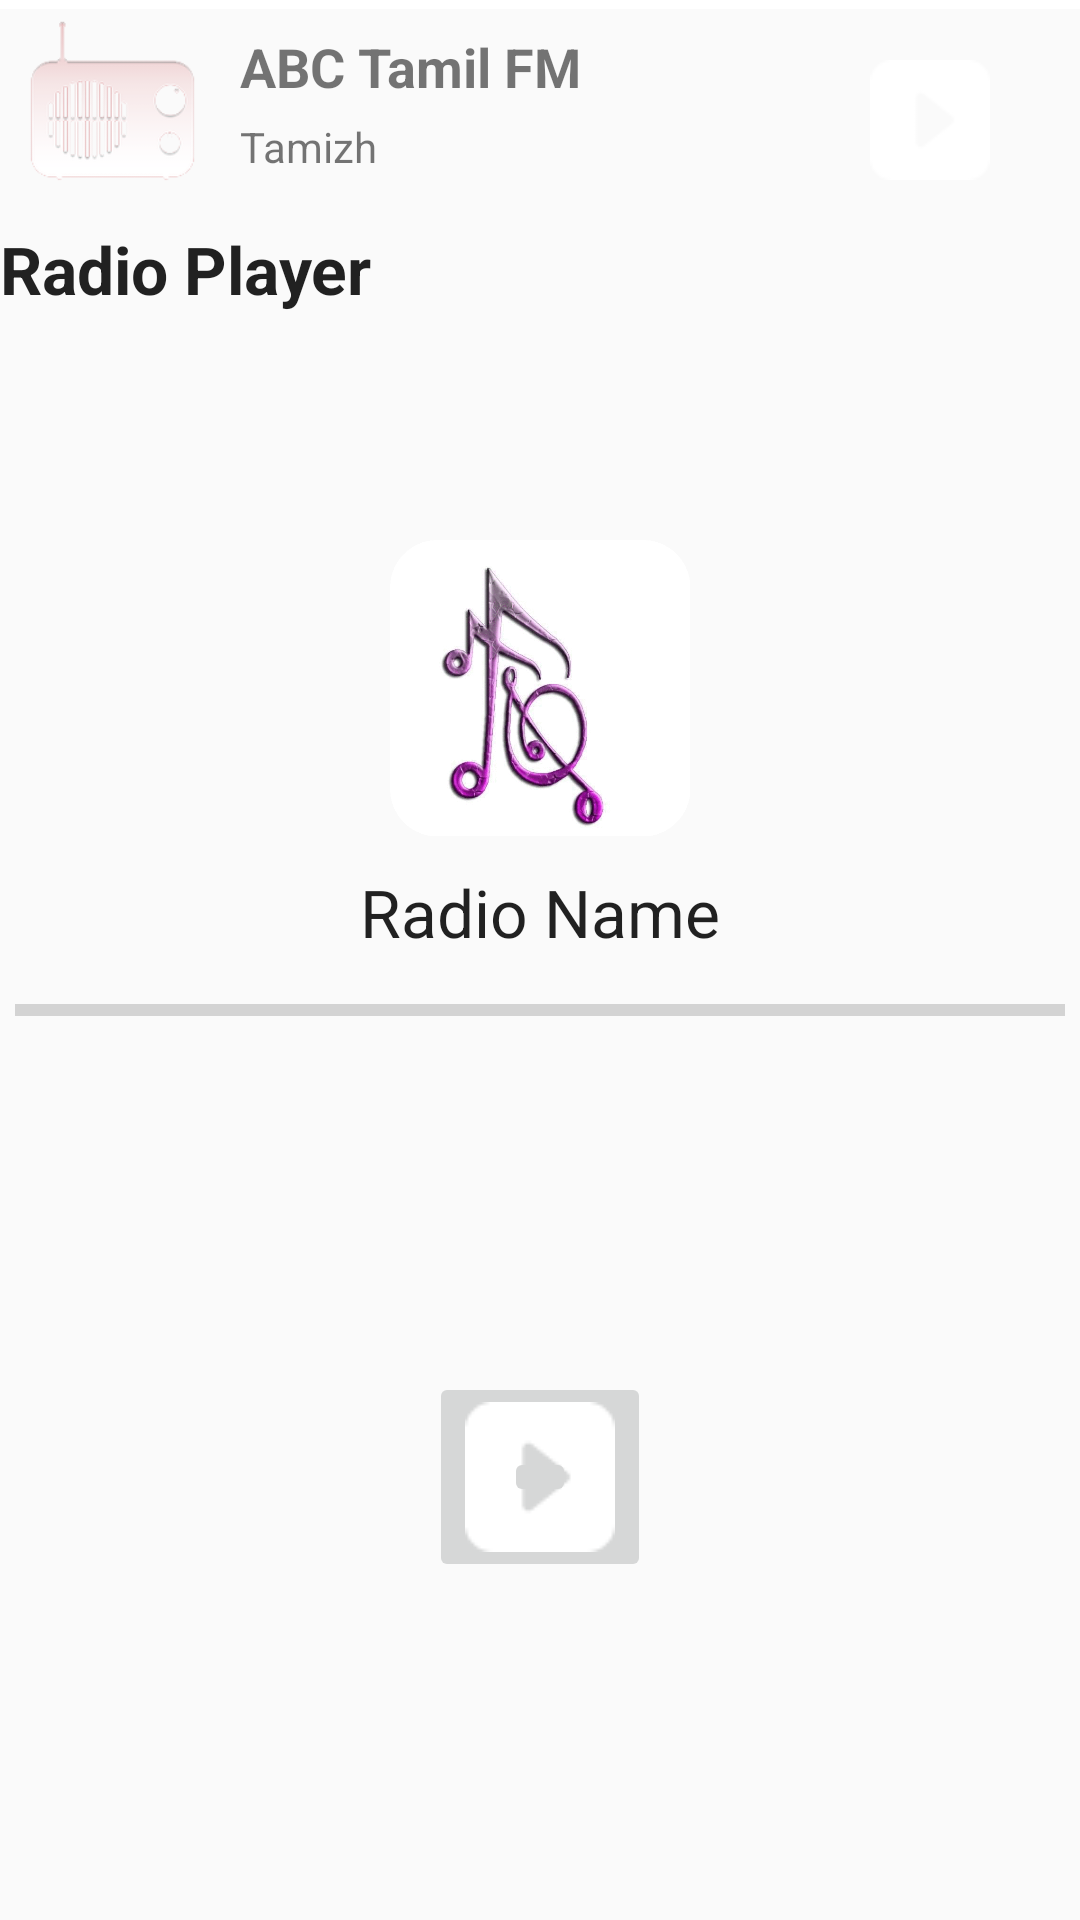

Icon click points for this 1080x1920 phone screenshot, format [x,y]:
play: [540,1477]
